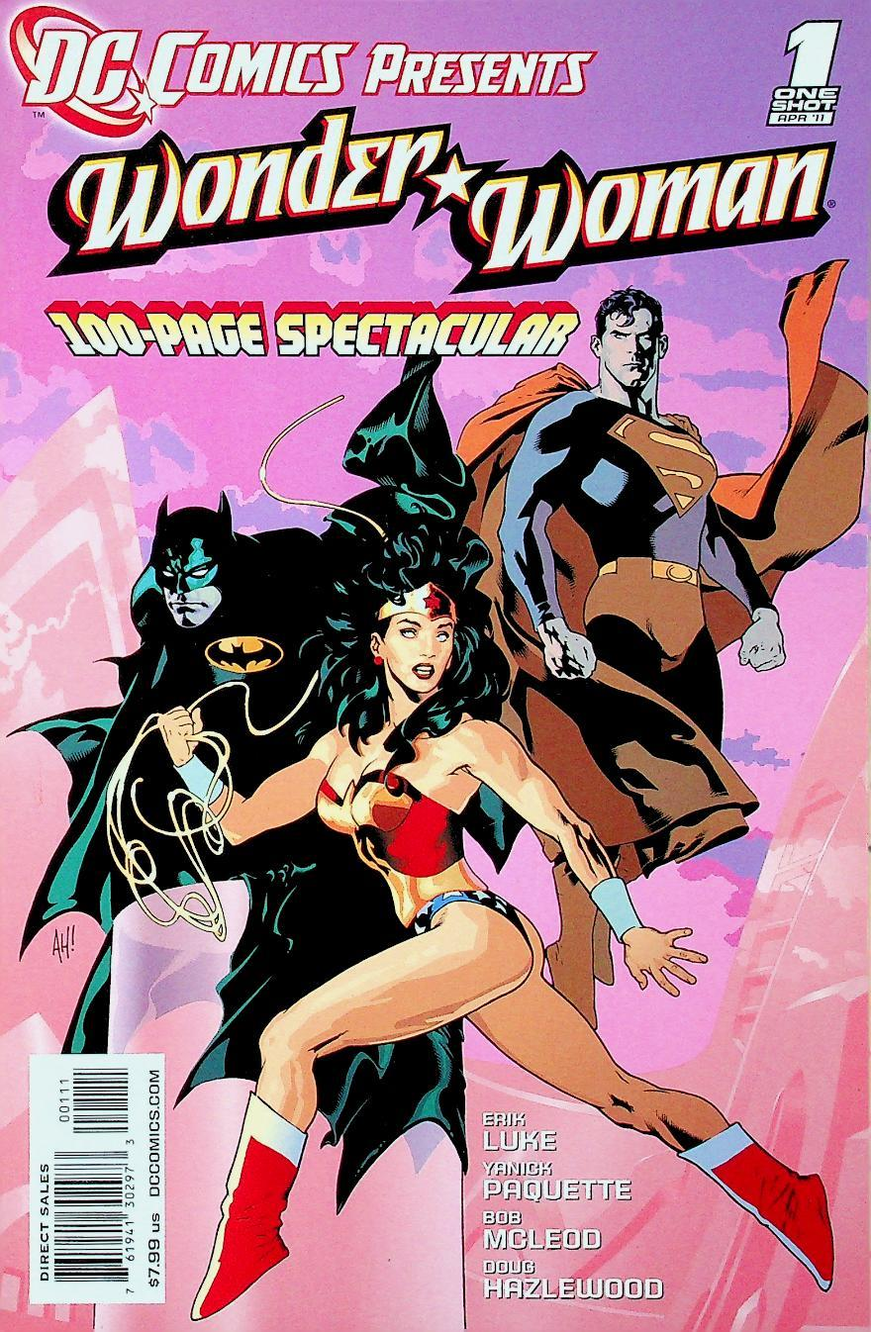comic: (0, 0, 868, 1331)
